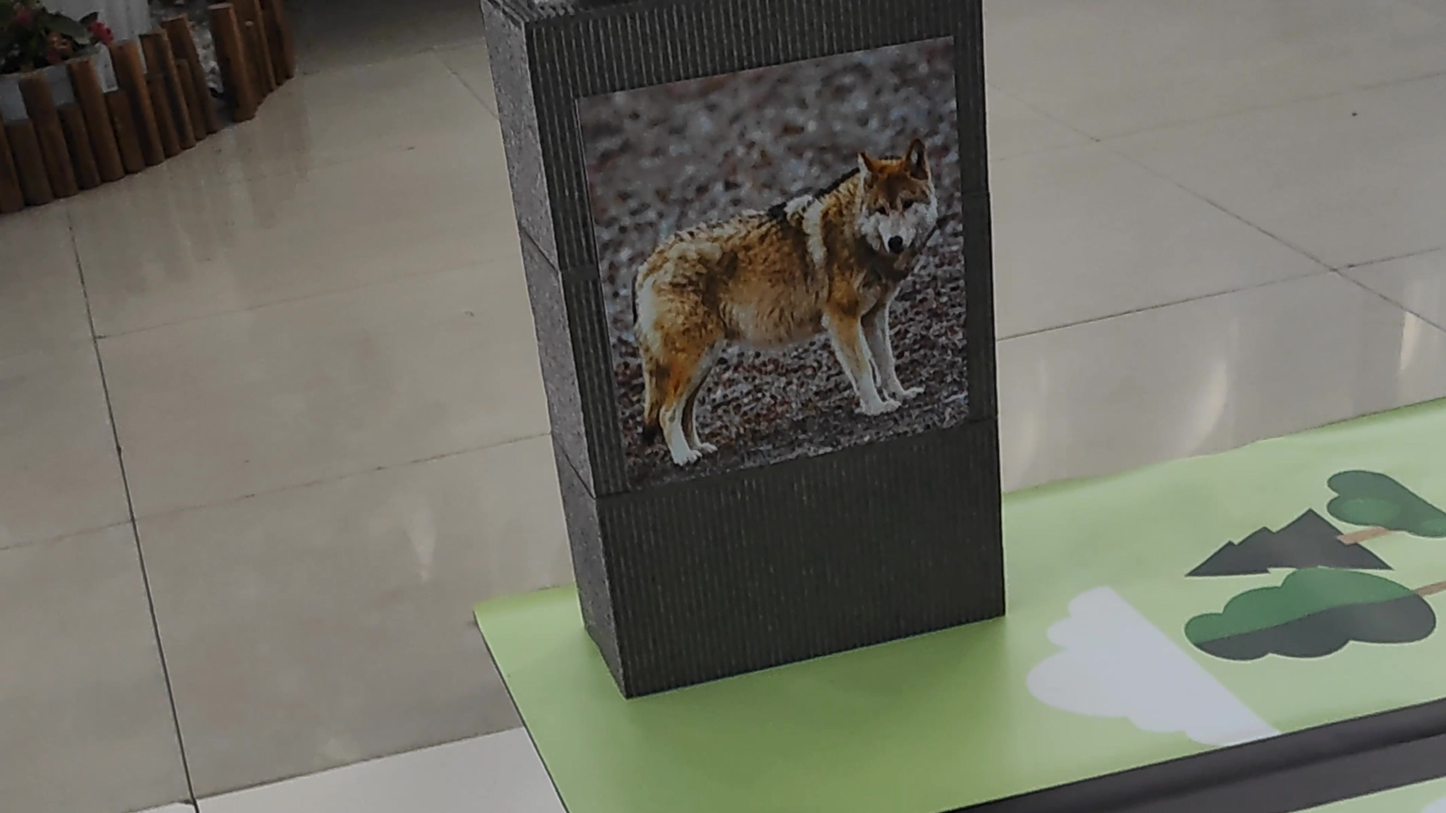wolf: (601, 113, 962, 450)
